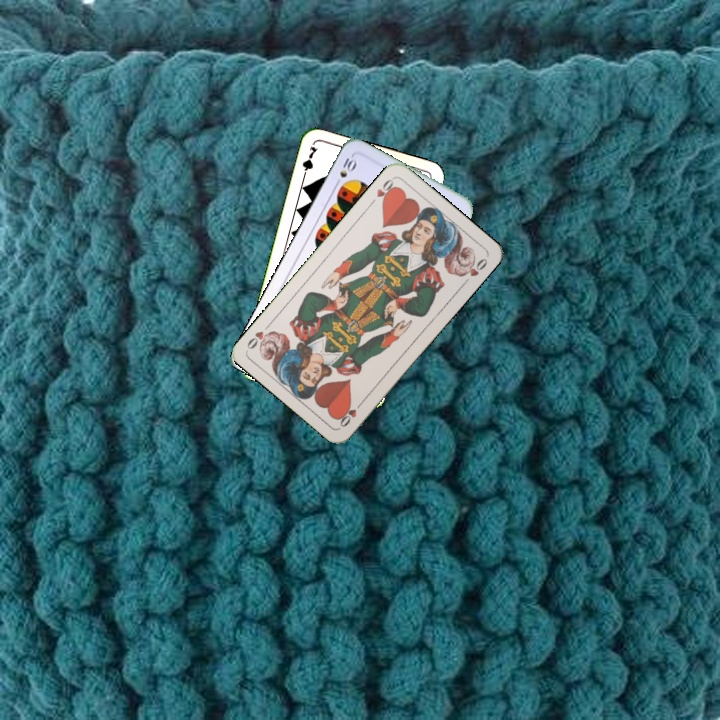G7: (298, 142, 320, 182)
HO: (366, 174, 399, 208), (335, 396, 366, 430)
S10: (331, 152, 360, 189)
